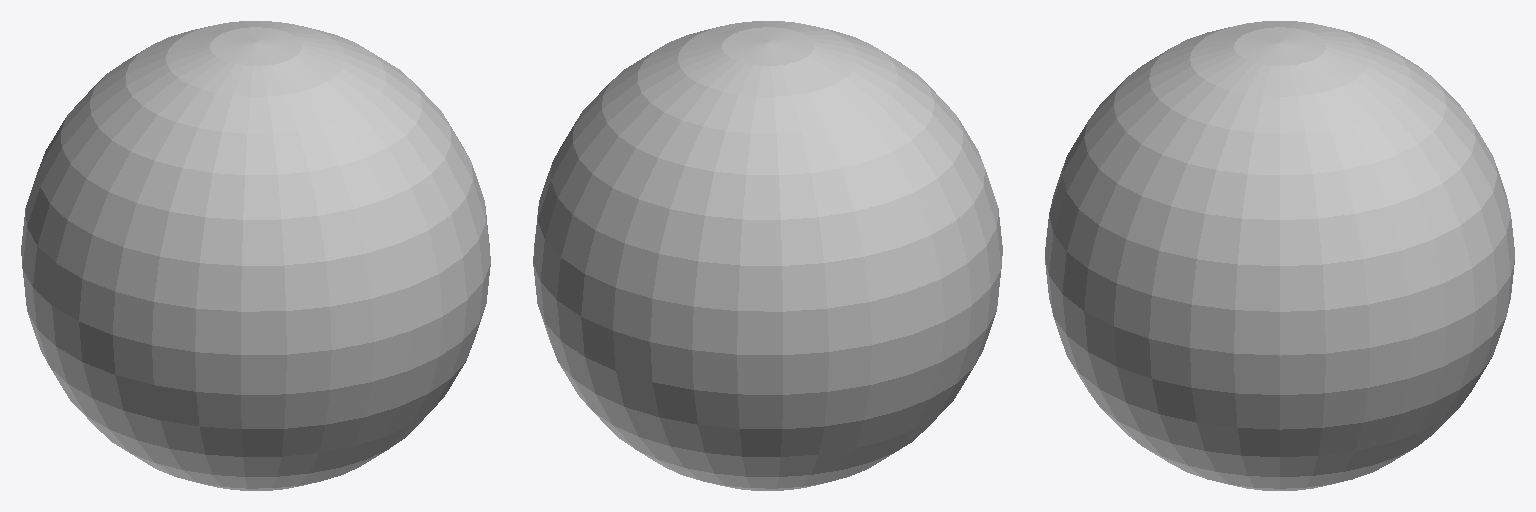
Rendered from cornell3_sphere2_08.obj.
The picture shows the model from 3 angles: view 1: azimuth 30°, elevation 25°; view 2: azimuth 150°, elevation 25°; view 3: azimuth 270°, elevation 25°; orthographic projection.
Parts seen in each view (by area): view 1: Sphere; view 2: Sphere; view 3: Sphere.
Part boxes in pixels (x1,y1,x2,y2): Sphere: (21,21,490,490); Sphere: (533,21,1002,490); Sphere: (1045,21,1514,490).
Bounding box in the file's own units: 0.398 × 0.398 × 0.398.